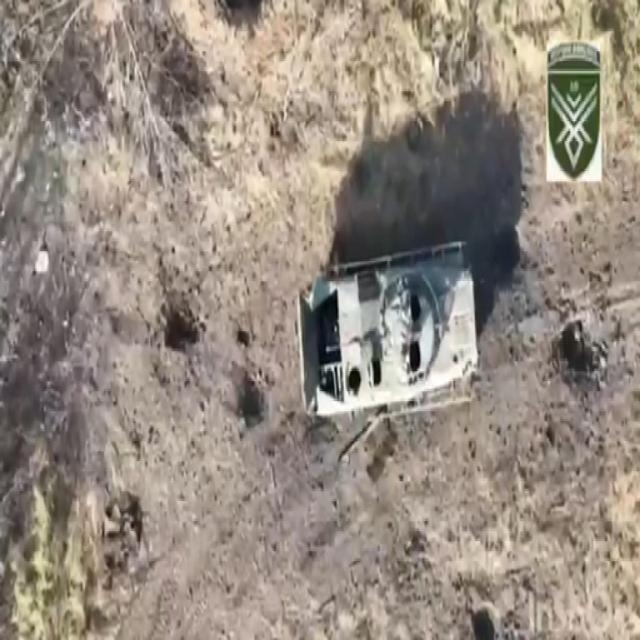APC-IFV: (292, 245, 482, 424)
